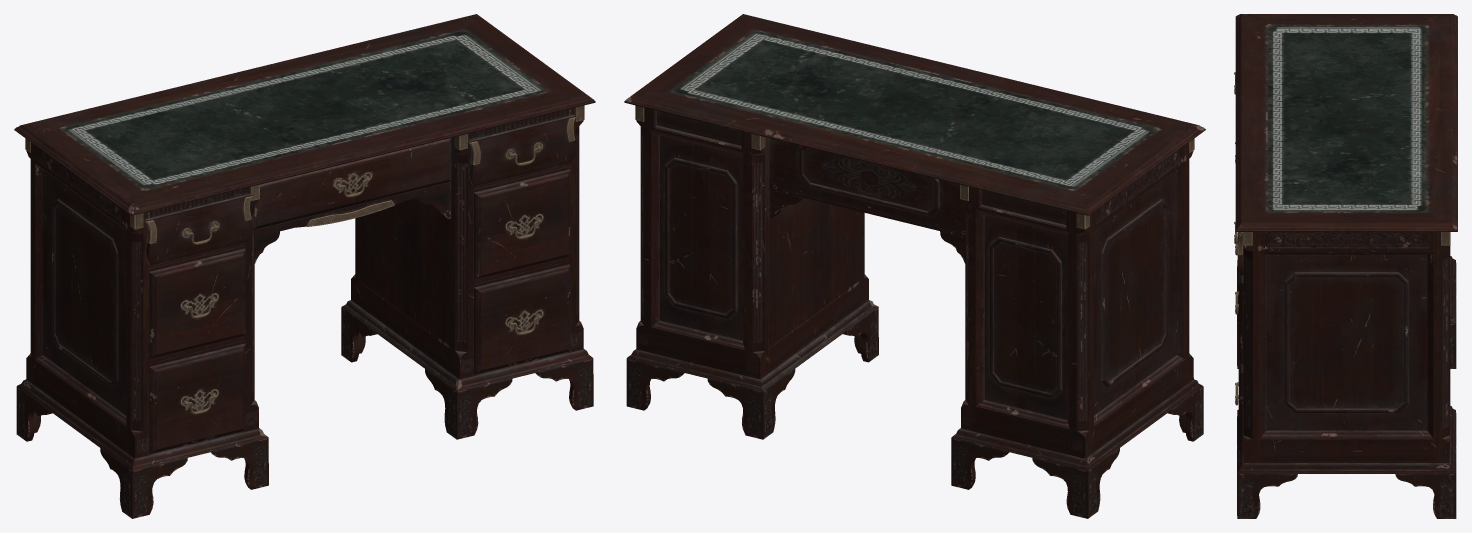
File: vict_antique_desk.glb
The picture shows the model from 3 angles, left to right: view 1: azimuth 30°, elevation 25°; view 2: azimuth 150°, elevation 25°; view 3: azimuth 270°, elevation 25°; orthographic projection. The views are drawn at different scales.
Parts seen in each view (by area): view 1: Object_2; view 2: Object_2; view 3: Object_2.
Part boxes in pixels (x1,y1,x2,y2): Object_2: (14, 14, 595, 518); Object_2: (624, 14, 1205, 518); Object_2: (1234, 14, 1457, 518).
Size of the model in its own units: 1.25 by 0.8 by 0.5525.
1 material, 1 textured.
